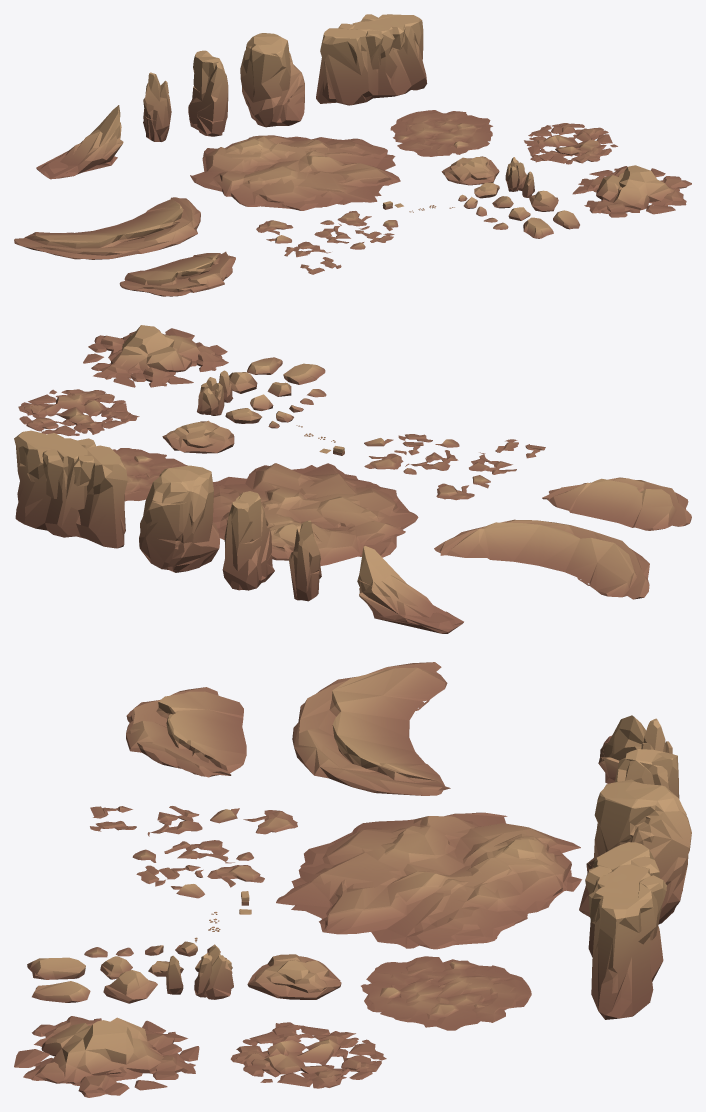
The model's file is LowPolyRocks_Sand.fbx.
3 renders of one model, top to bottom at view 1: azimuth 30°, elevation 25°; view 2: azimuth 150°, elevation 25°; view 3: azimuth 270°, elevation 25°, orthographic. The views are drawn at different scales.
Parts seen in each view (by area): view 1: RockFoundation_Sand, Cliff_05_Sand, RockWaveFormation_02_Sand, Cliff_04_Sand, RockFormation_02_Sand, RockFoundation_02_Sand, RockWaveFormation_01_Sand, Cliff_03_Sand, Cliff_01_Sand, RockFormation_03_Sand, Cliff_02_Sand, RockFormation_01_Sand (+4 smaller); view 2: RockFoundation_Sand, Cliff_05_Sand, RockWaveFormation_02_Sand, Cliff_04_Sand, RockFormation_02_Sand, RockWaveFormation_01_Sand, Cliff_01_Sand, Cliff_03_Sand, RockFormation_03_Sand, Cliff_02_Sand, RockFoundation_02_Sand, RockFormation_01_Sand (+6 smaller); view 3: RockFoundation_Sand, RockWaveFormation_02_Sand, Cliff_05_Sand, RockFormation_02_Sand, RockFoundation_02_Sand, RockWaveFormation_01_Sand, Cliff_04_Sand, RockFormation_03_Sand, RockFormation_01_Sand, RockBuried_06_Sand, Cliff_03_Sand, Cliff_01_Sand (+7 smaller).
Part boxes in pixels (x1,y1,x2,y2): RockFoundation_Sand: [190, 135, 400, 210]; Cliff_05_Sand: [316, 14, 427, 105]; RockWaveFormation_02_Sand: [14, 197, 200, 259]; Cliff_04_Sand: [240, 33, 304, 127]; RockFormation_02_Sand: [572, 165, 691, 217]; RockFoundation_02_Sand: [390, 110, 492, 156]; RockWaveFormation_01_Sand: [119, 251, 235, 296]; Cliff_03_Sand: [188, 50, 228, 136]; Cliff_01_Sand: [36, 105, 123, 179]; RockFormation_03_Sand: [524, 123, 617, 164]; Cliff_02_Sand: [143, 72, 171, 141]; RockFormation_01_Sand: [441, 156, 499, 185]; RockFoundation_Sand: [212, 463, 418, 565]; Cliff_05_Sand: [14, 430, 127, 548]; RockWaveFormation_02_Sand: [434, 519, 649, 599]; Cliff_04_Sand: [139, 465, 219, 572]; RockFormation_02_Sand: [83, 325, 228, 387]; RockWaveFormation_01_Sand: [542, 477, 691, 530]; Cliff_01_Sand: [357, 546, 463, 633]; Cliff_03_Sand: [222, 491, 274, 590]; RockFormation_03_Sand: [18, 389, 139, 435]; Cliff_02_Sand: [289, 520, 321, 601]; RockFoundation_02_Sand: [113, 448, 187, 501]; RockFormation_01_Sand: [162, 420, 234, 453]; RockFoundation_Sand: [276, 812, 581, 949]; RockWaveFormation_02_Sand: [292, 662, 450, 795]; Cliff_05_Sand: [585, 842, 666, 1019]; RockFormation_02_Sand: [14, 1016, 199, 1097]; RockFoundation_02_Sand: [361, 956, 531, 1030]; RockWaveFormation_01_Sand: [126, 687, 246, 777]; Cliff_04_Sand: [579, 779, 691, 924]; RockFormation_03_Sand: [230, 1022, 386, 1088]; RockFormation_01_Sand: [247, 954, 341, 999]; RockBuried_06_Sand: [132, 840, 264, 898]; Cliff_03_Sand: [614, 749, 679, 798]; Cliff_01_Sand: [598, 715, 646, 783].
Size of the model in its own units: 8663 by 1135 by 5703.
